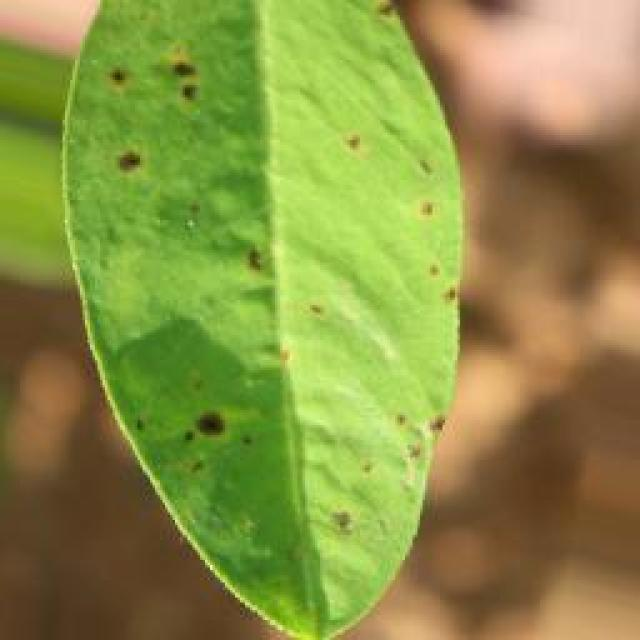Sigatoka: (96, 49, 228, 200), (346, 334, 452, 481), (119, 373, 248, 476), (380, 163, 456, 314), (224, 229, 317, 323), (306, 451, 374, 543), (320, 100, 385, 177), (344, 0, 400, 64)
